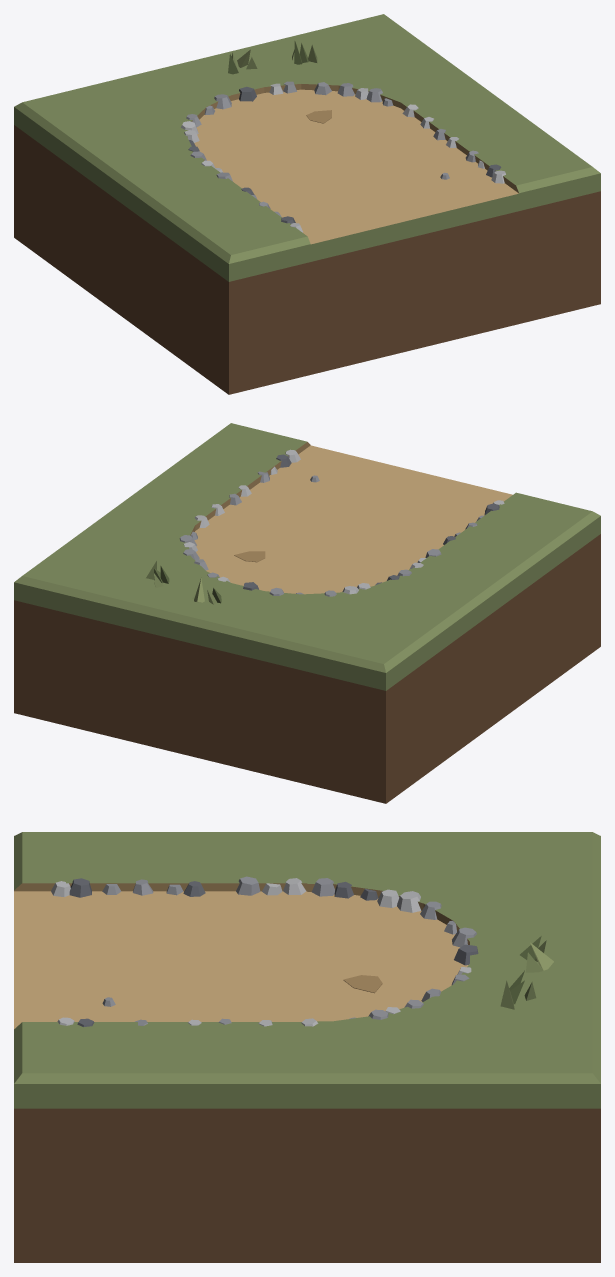
The model's file is Road End.fbx.
3 renders of one model, top to bottom at view 1: azimuth 30°, elevation 25°; view 2: azimuth 150°, elevation 25°; view 3: azimuth 270°, elevation 25°, orthographic. The views are drawn at different scales.
Parts seen in each view (by area): view 1: Road End; view 2: Road End; view 3: Road End.
Part boxes in pixels (left/top/right/bottom): Road End: left=14, top=14, right=600, bottom=394; Road End: left=14, top=423, right=600, bottom=803; Road End: left=14, top=832, right=600, bottom=1262.
Bounding box in the file's own units: 1 × 0.4013 × 1.
